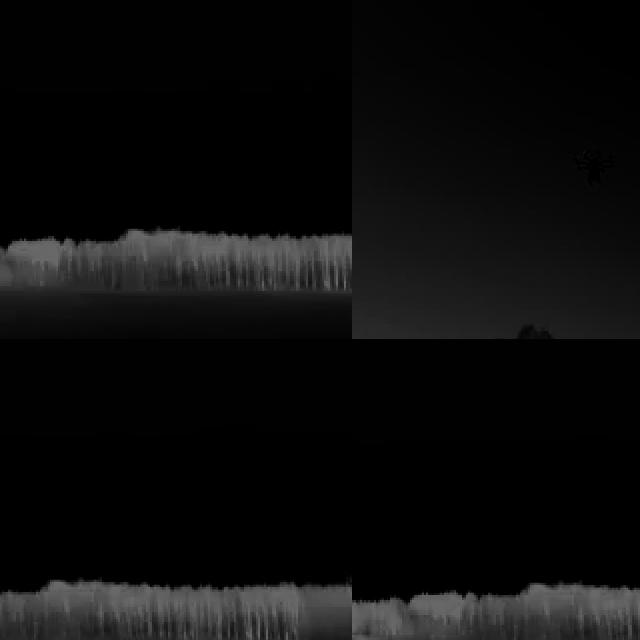drone: (573, 144, 618, 190)
